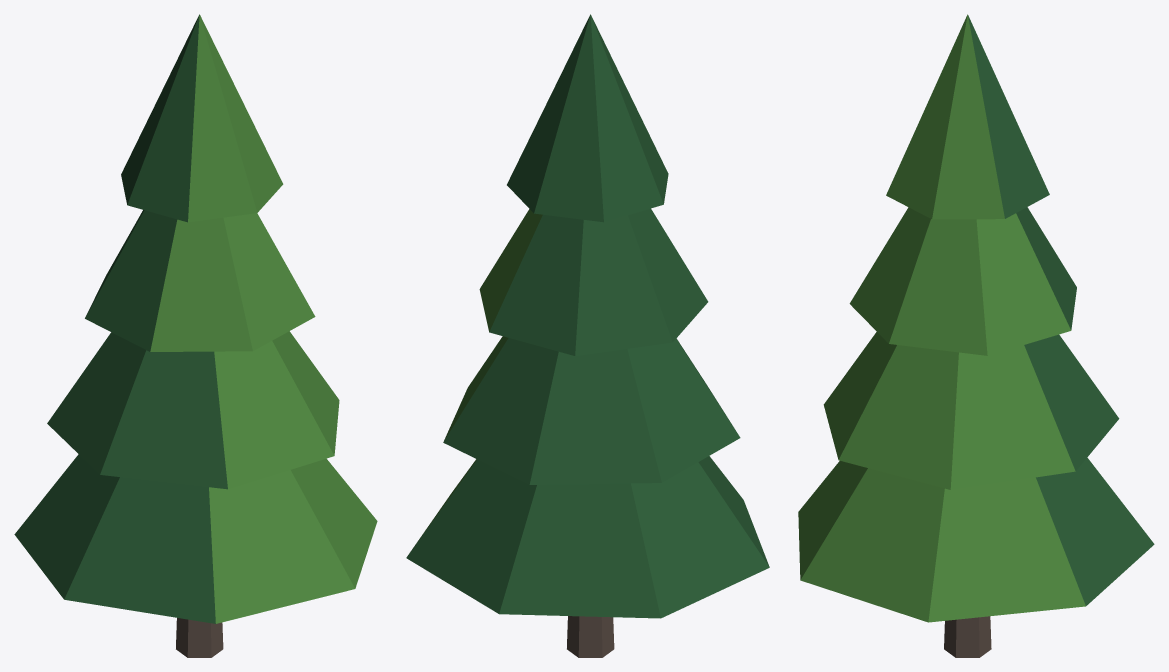
Rendered from Pine_Tall.fbx.
The picture shows the model from 3 angles, left to right: view 1: azimuth 30°, elevation 25°; view 2: azimuth 150°, elevation 25°; view 3: azimuth 270°, elevation 25°; orthographic projection.
Visible parts, largest first — view 1: Pine_Tall; view 2: Pine_Tall; view 3: Pine_Tall.
Boxes of the visible parts, <box> form: Pine_Tall: <box>14,14,377,657</box>; Pine_Tall: <box>406,14,769,657</box>; Pine_Tall: <box>798,14,1154,657</box>.
Size of the model in its own units: 4.29 by 8.25 by 4.19.
